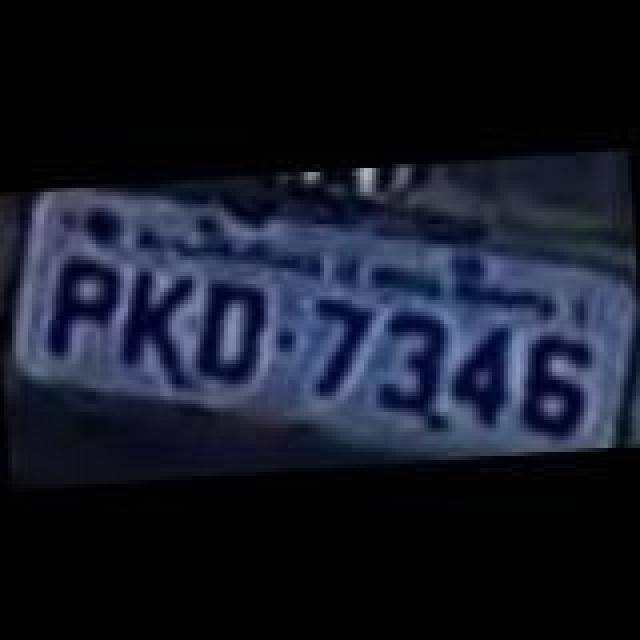3: (370, 308, 454, 420)
4: (442, 320, 518, 432)
6: (516, 328, 604, 440)
7: (306, 290, 382, 398)
K: (108, 260, 204, 380)
O: (188, 280, 276, 392)
P: (36, 252, 124, 356)
